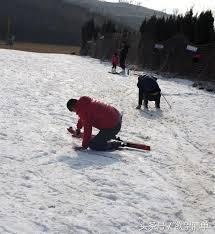Fall-Detected: (131, 67, 164, 111)
